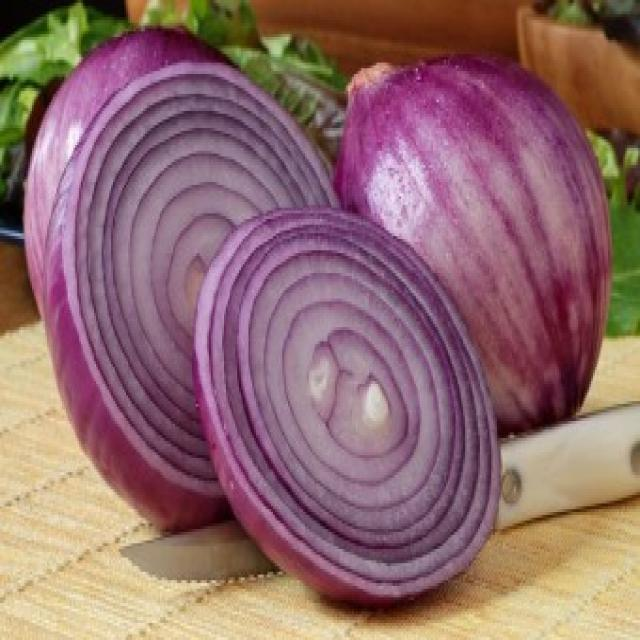onion: (33, 46, 334, 468), (213, 224, 498, 615), (352, 42, 616, 440)
